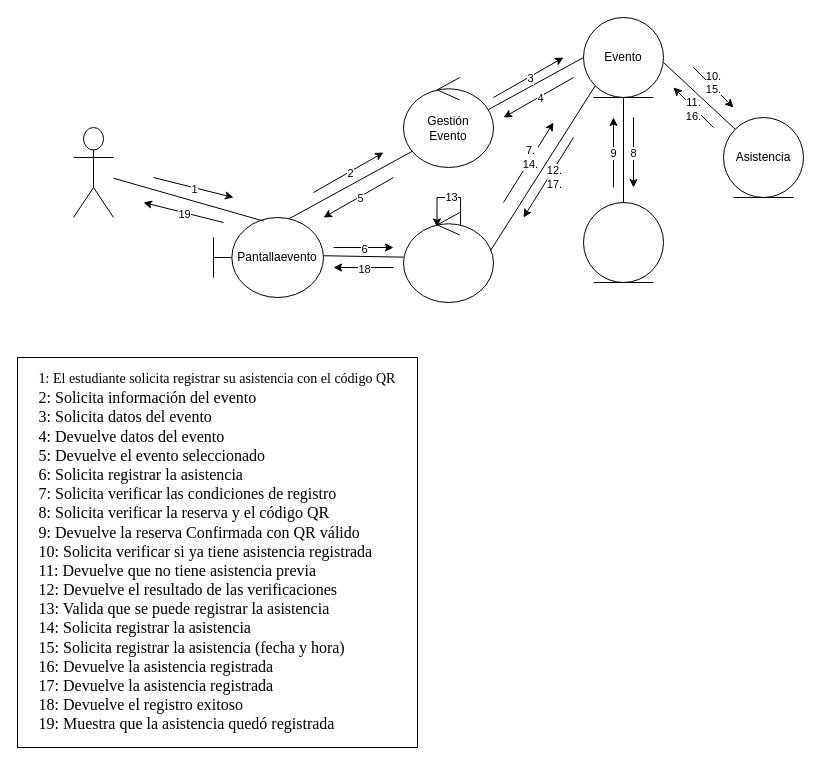
Image size: 821x765. Some labels were removed from this diagram. The shapes that lost their labels are listed below. From the top down, each one's centre as x and y in pixels, then its label:
the point at 93,172: Estudiante
the point at 448,257: Gestión Asistencia
the point at 623,242: Reserva
